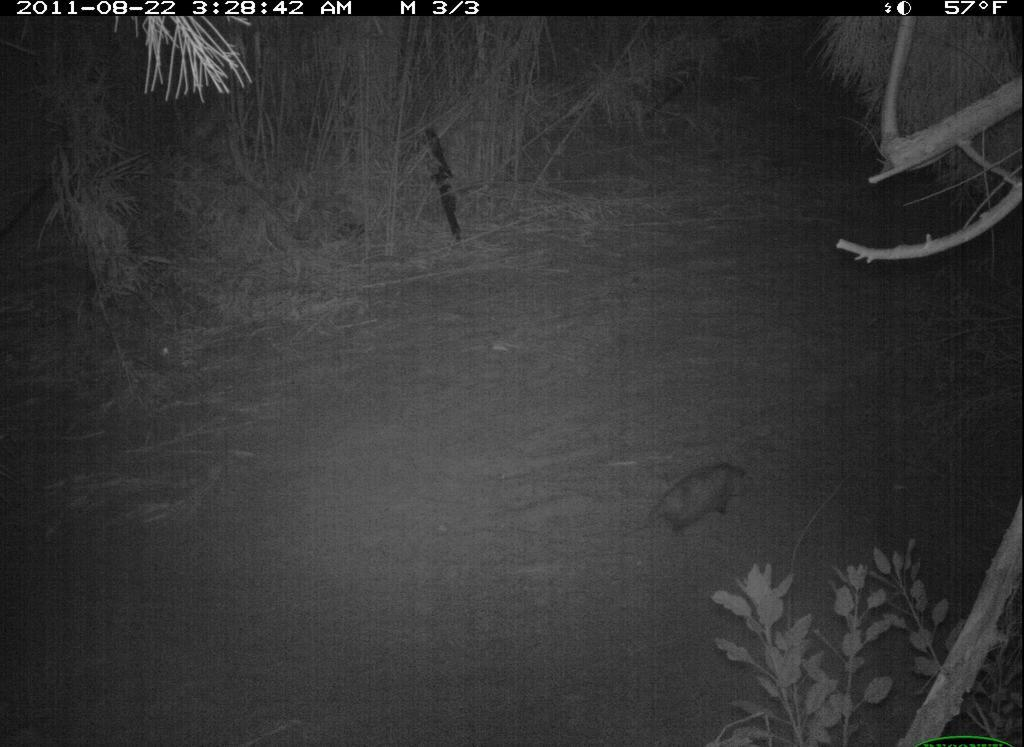opossum: (639, 452, 758, 543)
